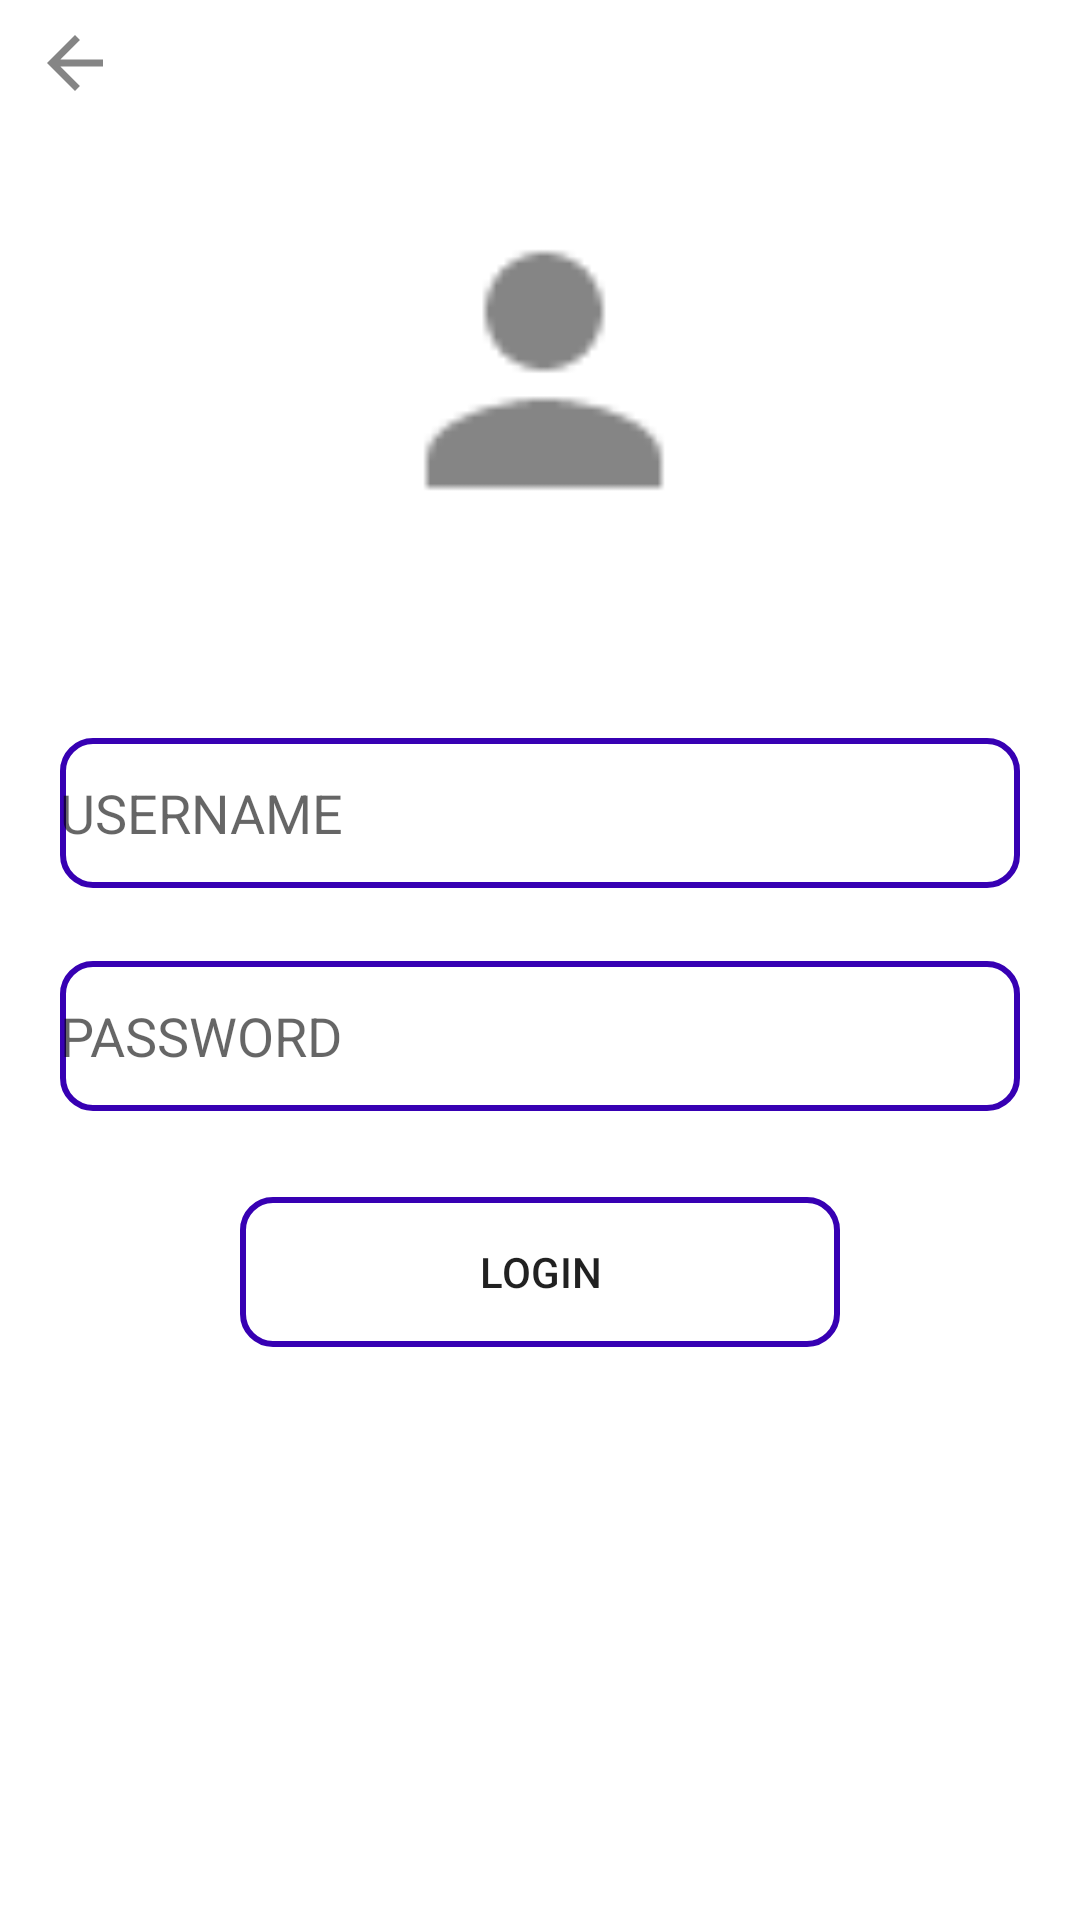

Where to tap for icons on this 1080px x 1920px app screen, as (x=x, y=y):
backwards: (x=75, y=63)
